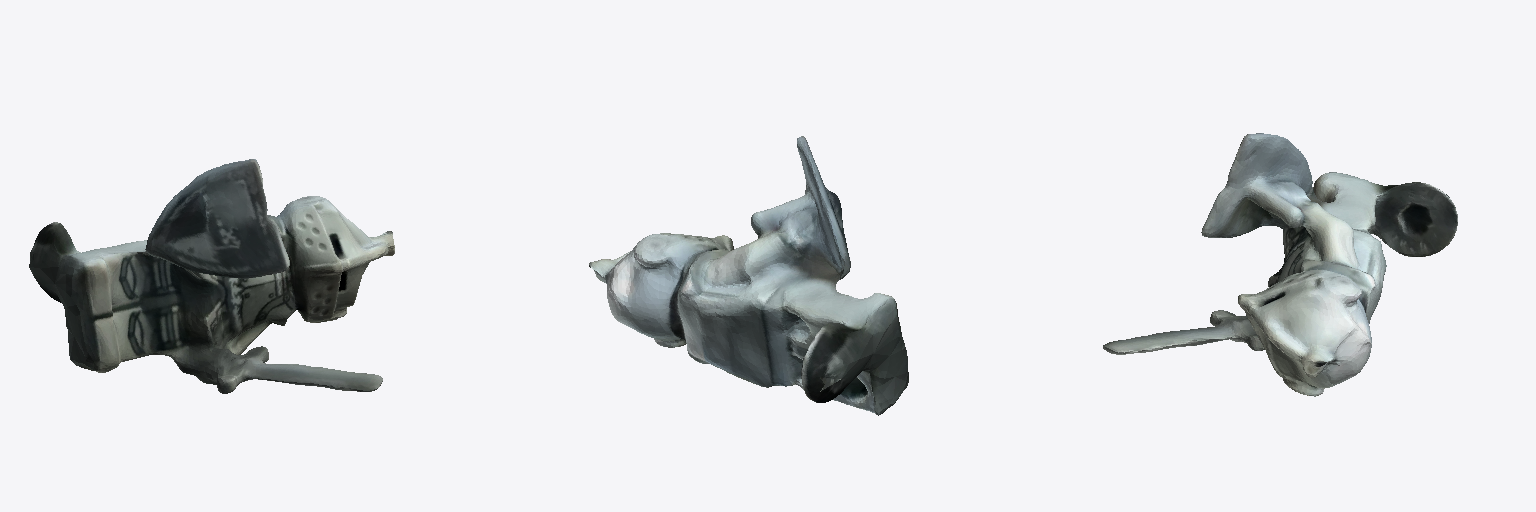
3 views of the same model, side by side, from view 1: azimuth 30°, elevation 25°; view 2: azimuth 150°, elevation 25°; view 3: azimuth 270°, elevation 25° (orthographic).
Bounding box in the file's own units: 0.2716 × 0.1849 × 0.2652.
Materials: 1 (1 with a texture image).